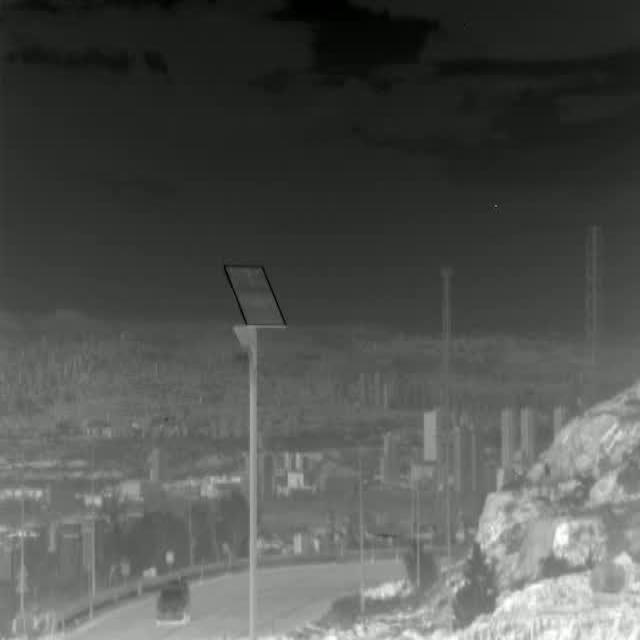Car: (156, 578, 191, 622)
